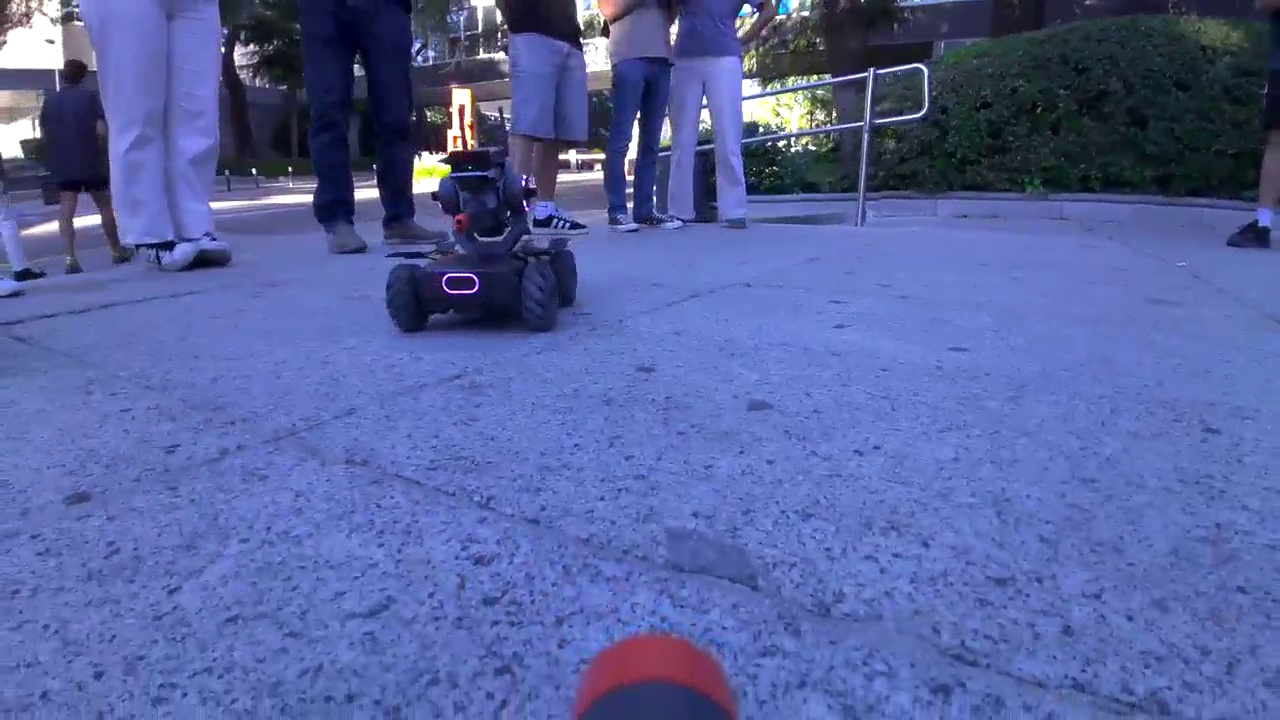robot: (384, 145, 580, 334)
